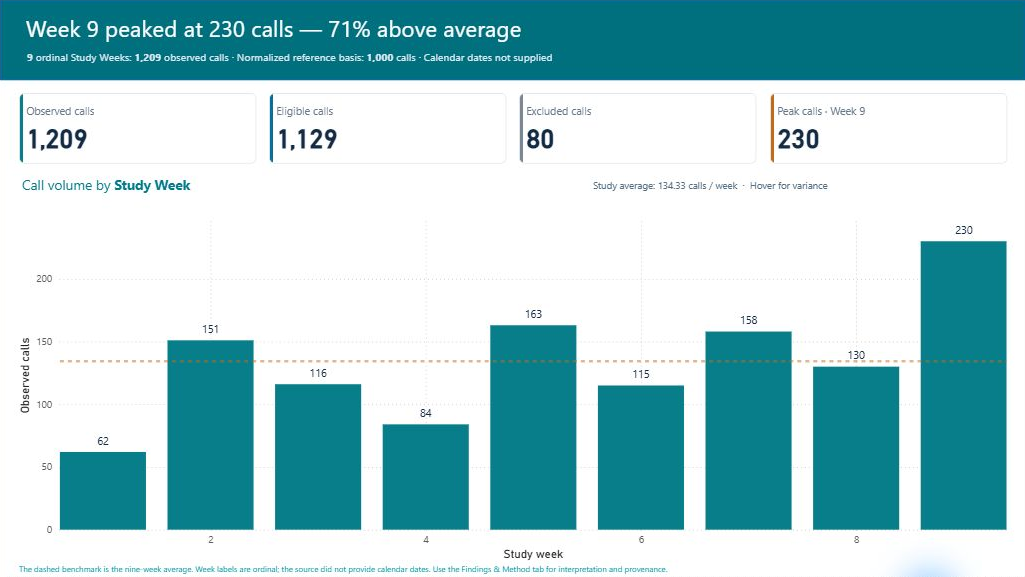

This screenshot's page, from the dashboard's own definition file:
{"tool":"powerbi","page":{"name":"Demand Overview","canvas":[1280,720],"ordinal":0},"visuals":[{"type":"shape","box":[0,0,1280,100],"z":0},{"type":"textbox","box":[32,16,1150,40],"z":1000},{"type":"textbox","box":[34,62,1190,24],"z":1000},{"type":"cardVisual","fields":{"Data":["StudyMethodology.Total Observed Calls"]},"box":[24,116,296,88],"z":1000},{"type":"cardVisual","fields":{"Data":["StudyMethodology.Eligible Matrix Calls"]},"box":[336,116,296,88],"z":1000},{"type":"cardVisual","fields":{"Data":["StudyMethodology.Nonstandard Excluded Calls"]},"box":[648,116,296,88],"z":1000},{"type":"cardVisual","fields":{"Data":["WeeklyVolume.Maximum Weekly Calls"]},"box":[960,116,296,88],"z":1000},{"type":"textbox","box":[28,220,690,28],"z":1000},{"type":"textbox","box":[740,222,500,24],"z":1000},{"type":"clusteredColumnChart","fields":{"Category":["WeeklyVolume.week_number"],"Y":["WeeklyVolume.Observed Calls"]},"box":[23.3,267.5,1232.3,431.9],"z":1000},{"type":"textbox","box":[23.3,699.3,1200.2,20.4],"z":1000}]}

Visuals, with their boxes in screenshot pixels (x1, y1, x2, y2), scaled from the page's 1280x720 canvas onto the 1025x577 screenshot:
shape: {"x1": 0, "y1": 0, "x2": 1024, "y2": 80}
textbox: {"x1": 26, "y1": 13, "x2": 947, "y2": 45}
textbox: {"x1": 27, "y1": 50, "x2": 980, "y2": 69}
cardVisual - StudyMethodology.Total Observed Calls: {"x1": 19, "y1": 93, "x2": 256, "y2": 163}
cardVisual - StudyMethodology.Eligible Matrix Calls: {"x1": 269, "y1": 93, "x2": 506, "y2": 163}
cardVisual - StudyMethodology.Nonstandard Excluded Calls: {"x1": 519, "y1": 93, "x2": 756, "y2": 163}
cardVisual - WeeklyVolume.Maximum Weekly Calls: {"x1": 769, "y1": 93, "x2": 1006, "y2": 163}
textbox: {"x1": 22, "y1": 176, "x2": 575, "y2": 199}
textbox: {"x1": 593, "y1": 178, "x2": 993, "y2": 197}
clusteredColumnChart - WeeklyVolume.week_number x WeeklyVolume.Observed Calls: {"x1": 19, "y1": 214, "x2": 1005, "y2": 560}
textbox: {"x1": 19, "y1": 560, "x2": 980, "y2": 576}
